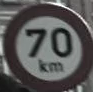Speed limit: (5, 6, 85, 84)
